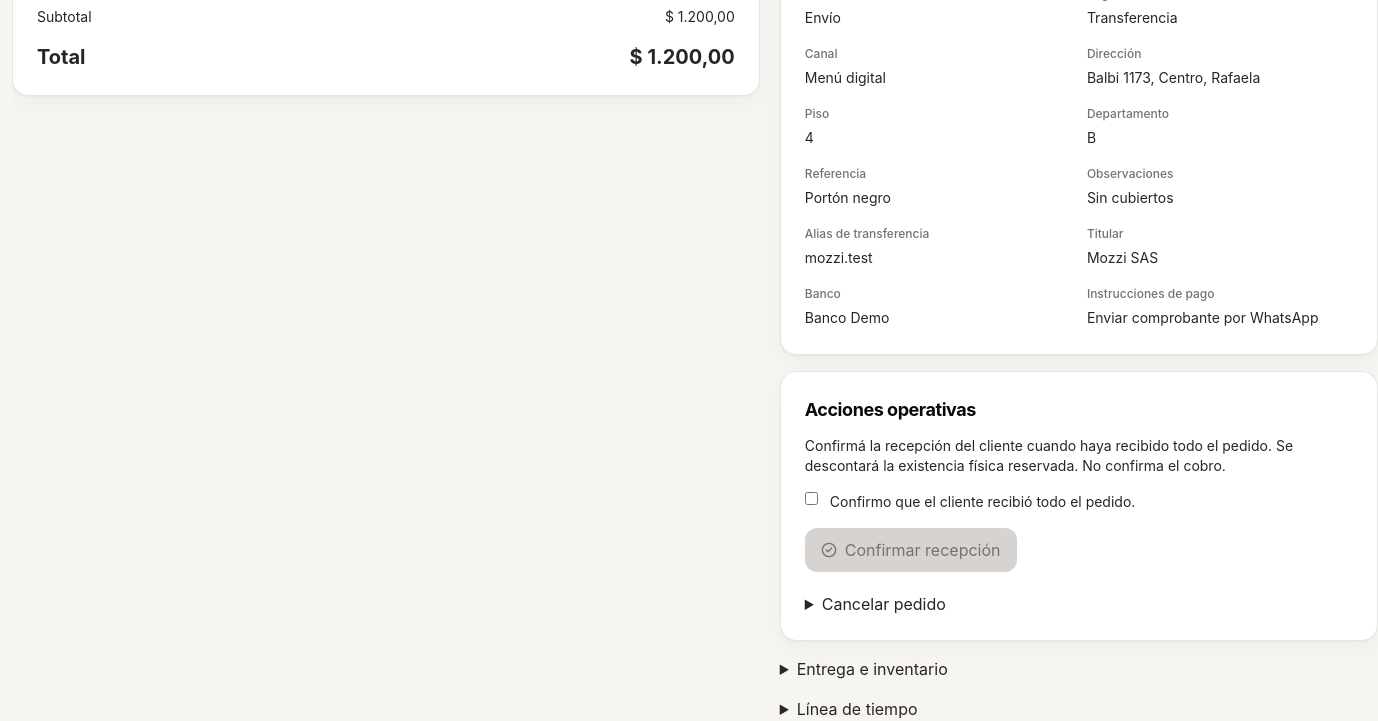
Test: operational order details › requires physical receipt confirmation and sends one delivery on double click
(page scrolled)
expect the button "Confirmar recepción" is disabled: met, box 805,528 -> 1017,572
Click the checkbox labelled "Confirmo que el cliente recibió todo el pedido.".
click(811, 498)  # box 805,492 -> 818,504
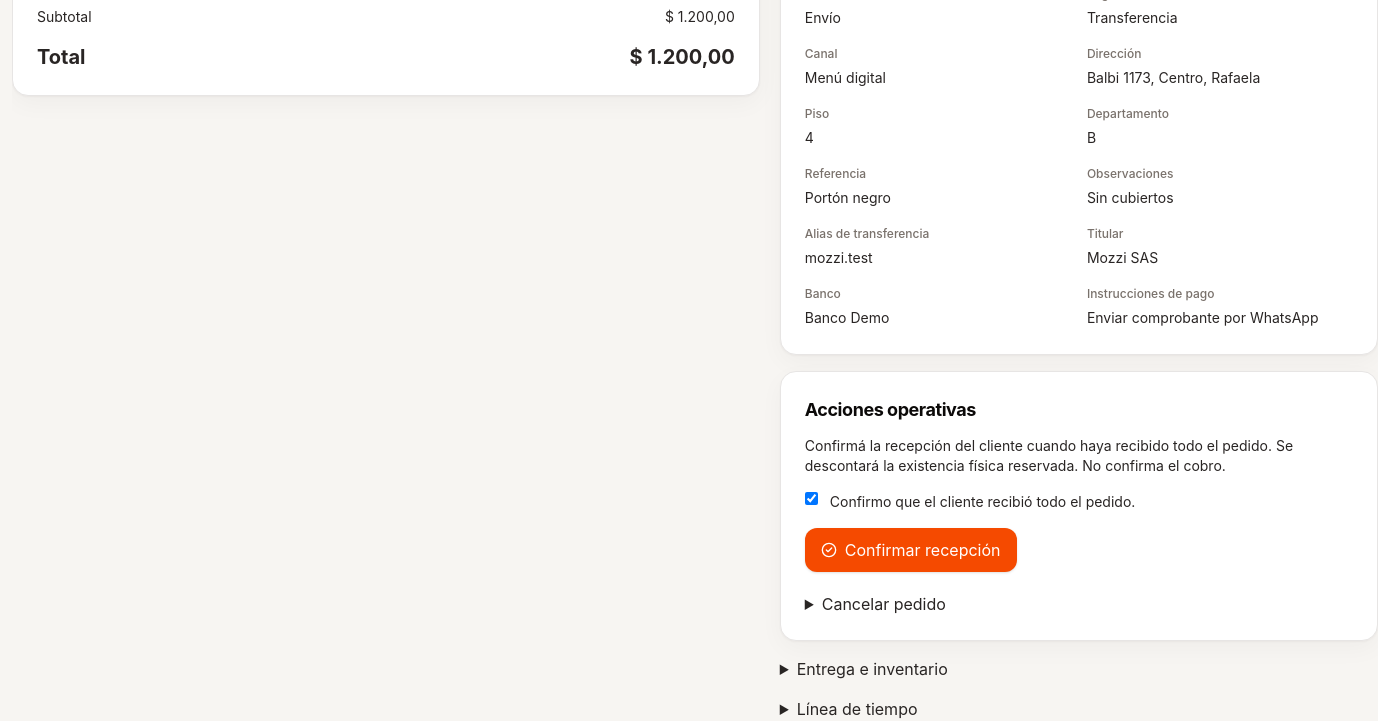
Click the button "Confirmar recepción".
click(911, 550)  # box 805,528 -> 1017,572
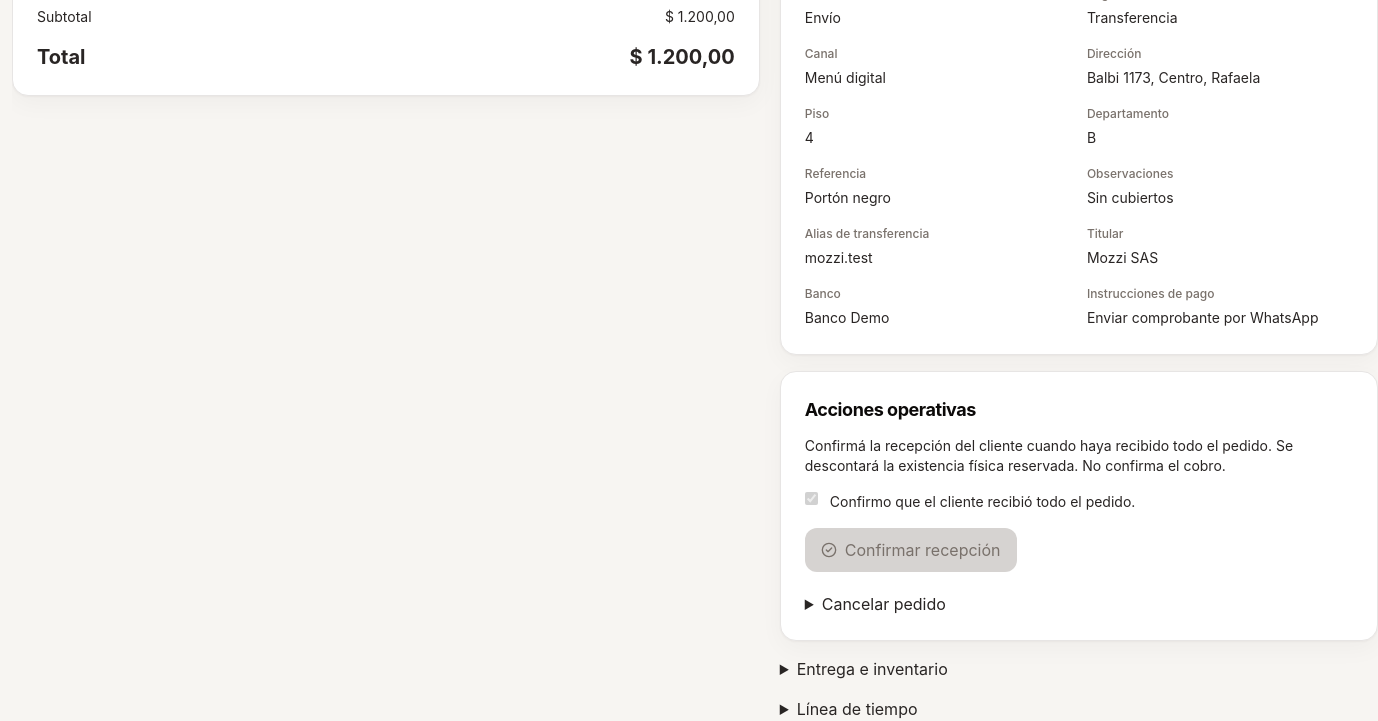
Click the button "Confirmar recepción".
click(911, 550)  # box 805,528 -> 1017,572
(page scrolled)
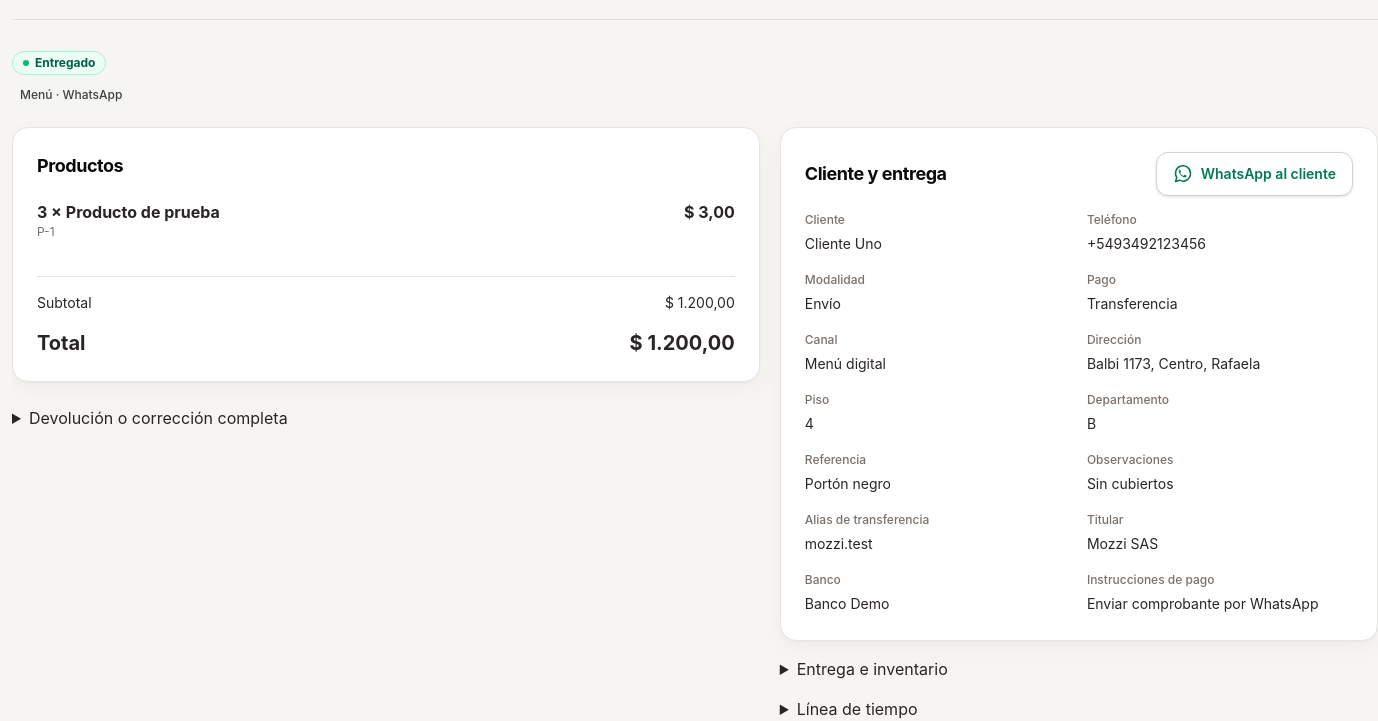
expect the button "Confirmar recepción" is gone: met
